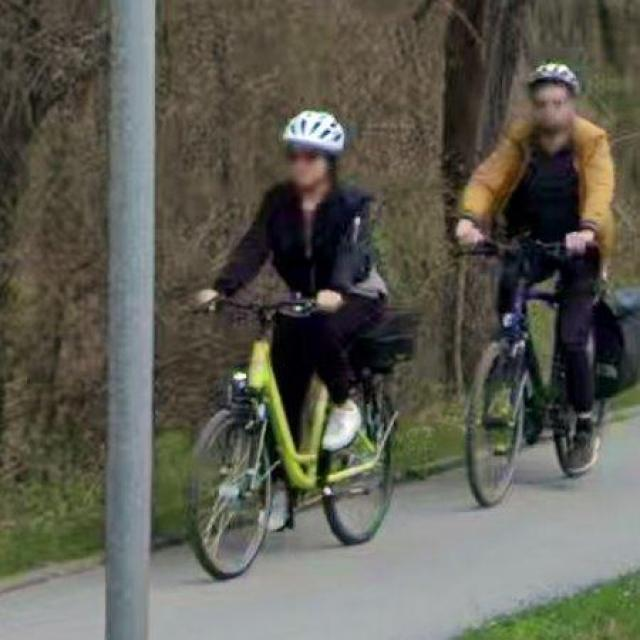bicycle: (189, 300, 418, 582), (467, 240, 577, 508)
